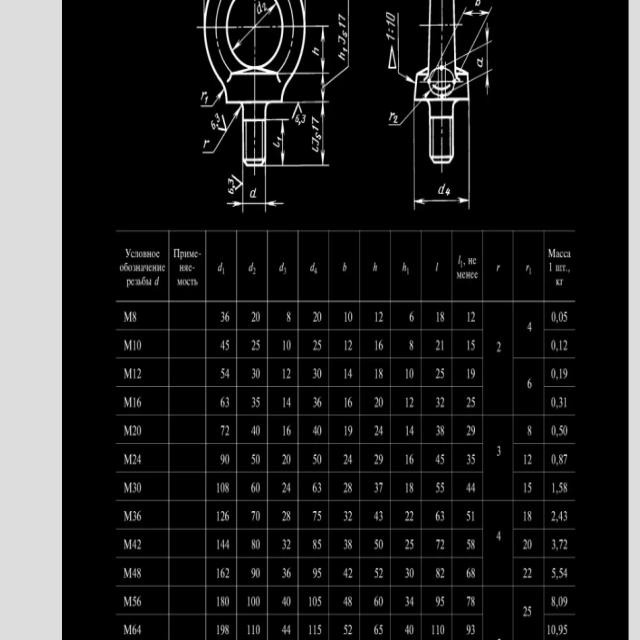marking_line: (309, 1, 353, 169), (284, 99, 330, 168), (226, 167, 286, 217), (414, 165, 473, 210), (458, 4, 494, 66), (233, 3, 276, 50), (201, 106, 241, 155), (471, 24, 496, 96), (412, 102, 428, 210), (458, 101, 471, 210), (396, 12, 415, 84), (267, 118, 291, 168), (307, 23, 329, 75), (388, 102, 417, 127), (200, 89, 224, 110)
numeric: (215, 595, 235, 612), (217, 507, 232, 526), (246, 595, 263, 611), (281, 535, 295, 554), (216, 565, 233, 580), (215, 536, 233, 550), (249, 535, 263, 553), (280, 420, 293, 438), (246, 625, 261, 640), (308, 592, 323, 607), (249, 507, 263, 522), (307, 623, 322, 637), (249, 565, 261, 582), (281, 395, 294, 409), (278, 622, 292, 635), (341, 565, 354, 579), (282, 452, 294, 467), (280, 510, 293, 523), (250, 479, 262, 493), (281, 366, 293, 380), (343, 367, 355, 381), (313, 338, 324, 353), (343, 623, 354, 638), (250, 396, 262, 409), (280, 339, 293, 351), (312, 367, 324, 380), (312, 510, 324, 523), (342, 537, 354, 550), (312, 538, 323, 552), (312, 567, 323, 581), (343, 509, 354, 523), (342, 424, 353, 438), (282, 480, 292, 495), (343, 594, 353, 609), (342, 482, 353, 495), (251, 365, 261, 379), (281, 565, 291, 579), (251, 452, 260, 467), (284, 309, 293, 324), (344, 451, 353, 466), (216, 626, 228, 637), (343, 311, 354, 323), (250, 424, 260, 437), (280, 596, 293, 606), (343, 339, 353, 352), (251, 338, 260, 352), (313, 308, 322, 322), (312, 396, 322, 408), (313, 424, 323, 436), (312, 452, 322, 464), (251, 310, 260, 323), (312, 481, 323, 491), (386, 11, 396, 22), (344, 396, 352, 408), (225, 337, 231, 352), (386, 19, 395, 29), (220, 454, 226, 468), (378, 311, 385, 323), (469, 367, 476, 379), (434, 567, 441, 579), (311, 115, 319, 125), (373, 509, 379, 522), (465, 623, 471, 636), (527, 509, 533, 522), (551, 424, 557, 437), (374, 480, 379, 495), (219, 397, 225, 409), (470, 311, 476, 323), (378, 339, 384, 351), (409, 339, 415, 351), (435, 339, 441, 351), (409, 368, 415, 380), (373, 624, 379, 636), (409, 425, 415, 437), (409, 396, 415, 408), (440, 481, 446, 493), (435, 510, 441, 522), (527, 453, 533, 465), (550, 339, 556, 351), (562, 596, 568, 608), (386, 34, 395, 42), (220, 310, 225, 324), (471, 452, 476, 466), (466, 509, 471, 523), (214, 113, 221, 123), (378, 539, 384, 550), (378, 568, 384, 579), (378, 596, 384, 607), (409, 596, 415, 607), (435, 597, 441, 608), (439, 625, 445, 636), (470, 596, 476, 607), (526, 606, 532, 617), (301, 113, 307, 124), (225, 396, 230, 409), (225, 423, 230, 436), (497, 341, 502, 354), (374, 423, 379, 436), (405, 509, 410, 522), (435, 481, 440, 494), (471, 395, 476, 408), (466, 480, 471, 493), (466, 538, 471, 551), (527, 321, 532, 334), (559, 310, 564, 323), (551, 366, 556, 379), (558, 396, 563, 409), (338, 13, 346, 21), (338, 21, 346, 29), (220, 339, 225, 351), (226, 368, 231, 380), (220, 425, 225, 437), (220, 482, 225, 494), (225, 481, 230, 493), (434, 311, 439, 323), (379, 368, 384, 380), (435, 367, 440, 379), (379, 425, 384, 437), (373, 453, 378, 465), (378, 482, 383, 494), (409, 624, 414, 636), (405, 567, 410, 579), (409, 510, 414, 522), (409, 452, 414, 464), (435, 396, 440, 408), (441, 396, 446, 408), (440, 424, 445, 436), (441, 596, 446, 608), (466, 396, 471, 408), (466, 567, 471, 579), (471, 567, 476, 579), (496, 530, 501, 542), (496, 446, 502, 456), (528, 424, 533, 436), (528, 567, 533, 579), (551, 311, 556, 323), (551, 454, 557, 464), (558, 453, 563, 465), (558, 424, 563, 436), (563, 510, 568, 522), (558, 567, 563, 579), (563, 624, 568, 636), (551, 624, 556, 636), (405, 423, 409, 437), (226, 311, 231, 322), (216, 483, 221, 494), (409, 312, 414, 323), (471, 340, 476, 351), (435, 454, 440, 465), (440, 453, 445, 464), (440, 510, 445, 521), (440, 539, 445, 550), (471, 482, 476, 493), (471, 539, 476, 550), (527, 539, 532, 550), (522, 567, 527, 578), (563, 368, 568, 379), (563, 425, 568, 436), (558, 482, 563, 493), (558, 625, 563, 636), (375, 566, 379, 579), (410, 567, 414, 580), (405, 396, 409, 409), (466, 424, 470, 437), (471, 623, 475, 636), (378, 397, 383, 407), (410, 539, 415, 549), (435, 539, 440, 549), (440, 568, 445, 578), (551, 397, 556, 407), (564, 539, 569, 549), (558, 597, 563, 607), (211, 120, 216, 130), (446, 187, 451, 197), (312, 124, 319, 131), (225, 453, 229, 465), (374, 311, 378, 323), (440, 311, 444, 323), (441, 367, 445, 379), (374, 396, 378, 408), (374, 595, 378, 607), (379, 624, 383, 636), (405, 624, 409, 636), (436, 424, 440, 436), (431, 625, 435, 637), (471, 425, 475, 437), (467, 453, 471, 465), (523, 482, 527, 494), (523, 605, 527, 617), (563, 311, 567, 323), (563, 453, 567, 465), (552, 510, 556, 522), (559, 538, 563, 550), (342, 29, 348, 37), (221, 368, 225, 379), (379, 453, 383, 464), (374, 539, 378, 550), (405, 539, 409, 550), (405, 482, 409, 493), (409, 482, 413, 493), (467, 596, 471, 607), (564, 482, 568, 493), (558, 511, 562, 522), (552, 568, 556, 579), (564, 568, 568, 579), (552, 596, 556, 607), (228, 188, 234, 195), (228, 178, 234, 185), (379, 511, 383, 521), (405, 597, 409, 607), (528, 378, 532, 388), (528, 482, 532, 492), (523, 539, 527, 549), (564, 340, 568, 350), (552, 540, 556, 550), (547, 623, 550, 636), (467, 311, 470, 323), (375, 340, 378, 352), (406, 368, 409, 380), (406, 453, 409, 465), (436, 623, 439, 635), (559, 368, 562, 380), (564, 396, 567, 408), (441, 340, 444, 351), (467, 369, 470, 380), (552, 482, 555, 493), (295, 114, 299, 122), (467, 340, 470, 350), (471, 511, 474, 521), (549, 263, 552, 272), (524, 510, 526, 523), (375, 368, 377, 380), (560, 339, 562, 351), (524, 455, 526, 466)
special_symbol: (326, 3, 351, 87), (386, 45, 397, 69), (232, 174, 243, 191), (292, 103, 302, 121), (218, 114, 228, 131)
